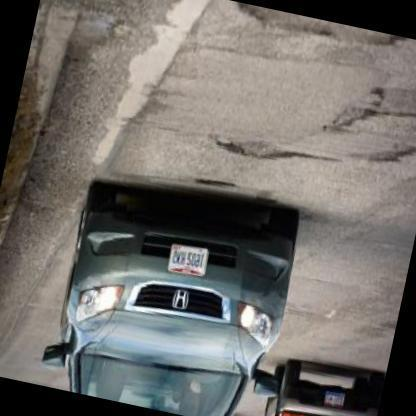pothole: (235, 1, 399, 48), (330, 86, 388, 134), (220, 136, 303, 162), (347, 143, 416, 164)
